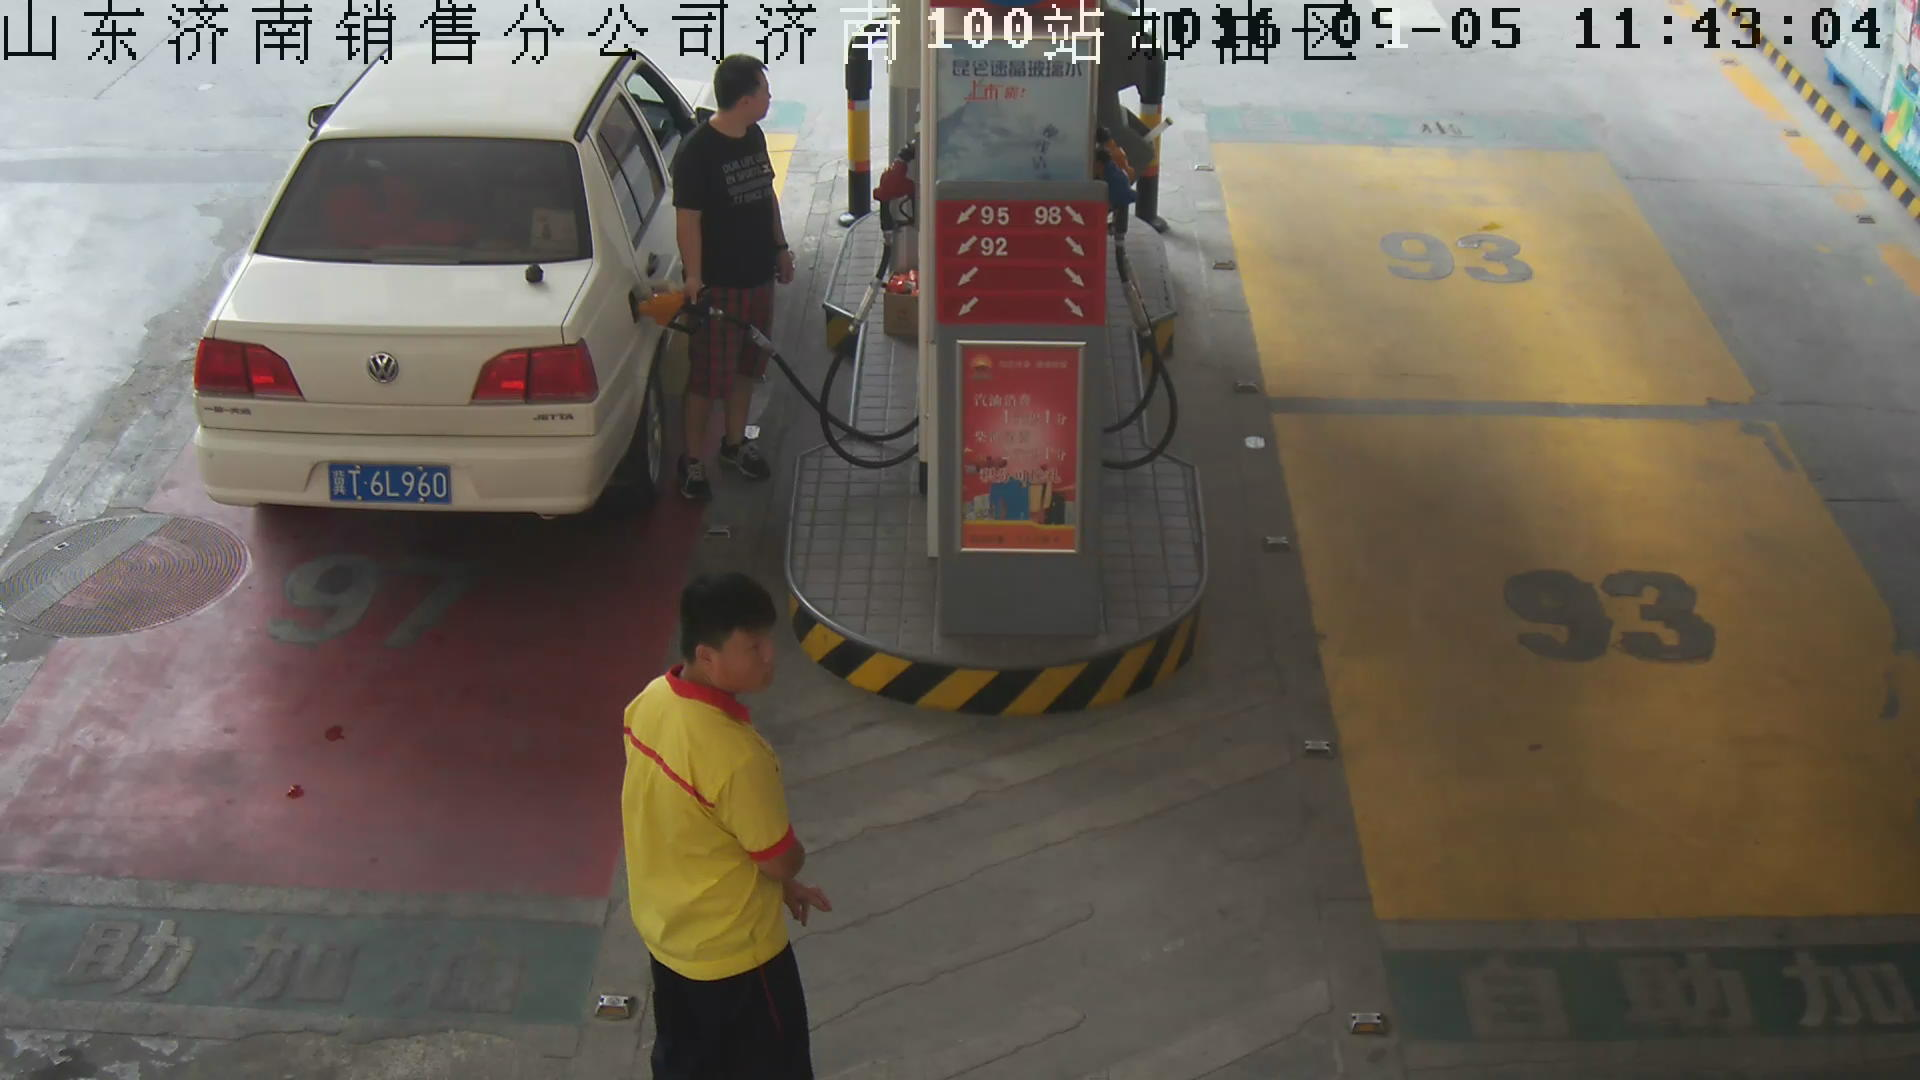blue: (327, 460, 456, 512)
